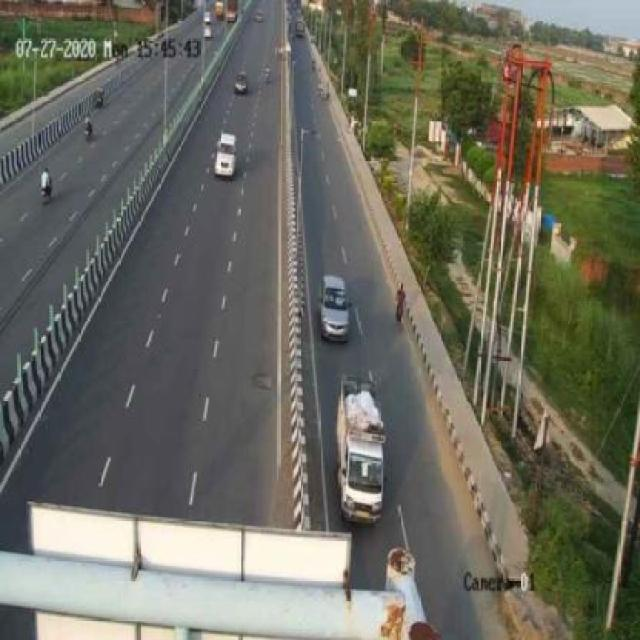car: (323, 368, 399, 528), (320, 277, 351, 341), (212, 135, 238, 180), (226, 68, 254, 95)
